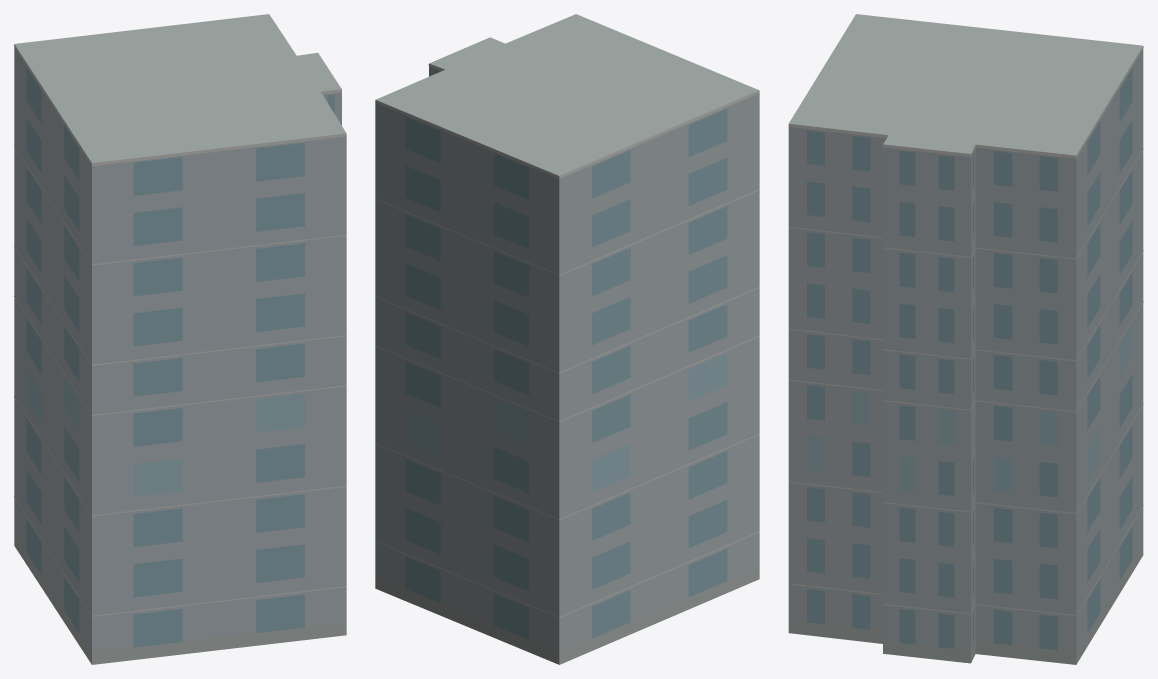
Rendered from survey-upis-32909885.glb.
The picture shows the model from 3 angles, left to right: view 1: azimuth 30°, elevation 25°; view 2: azimuth 150°, elevation 25°; view 3: azimuth 270°, elevation 25°; orthographic projection. The views are drawn at different scales.
Visible parts, largest first — view 1: survey-upis-32909885.tmp; view 2: survey-upis-32909885.tmp; view 3: survey-upis-32909885.tmp.
Part boxes in pixels (x1,y1,x2,y2): survey-upis-32909885.tmp: (14, 14, 346, 664); survey-upis-32909885.tmp: (375, 14, 759, 664); survey-upis-32909885.tmp: (788, 14, 1143, 664).
Size of the model in its own units: 23.32 by 39.1 by 24.71.
